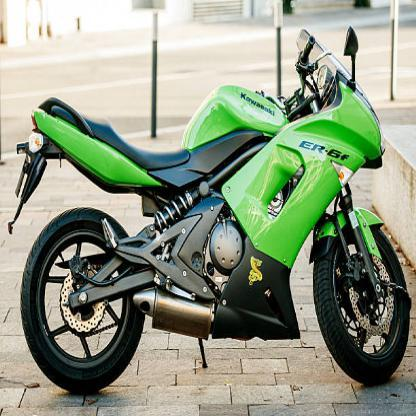Motorcycle: (5, 20, 412, 394)
